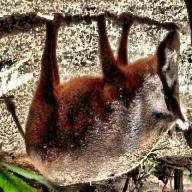boar: (20, 6, 192, 186)
